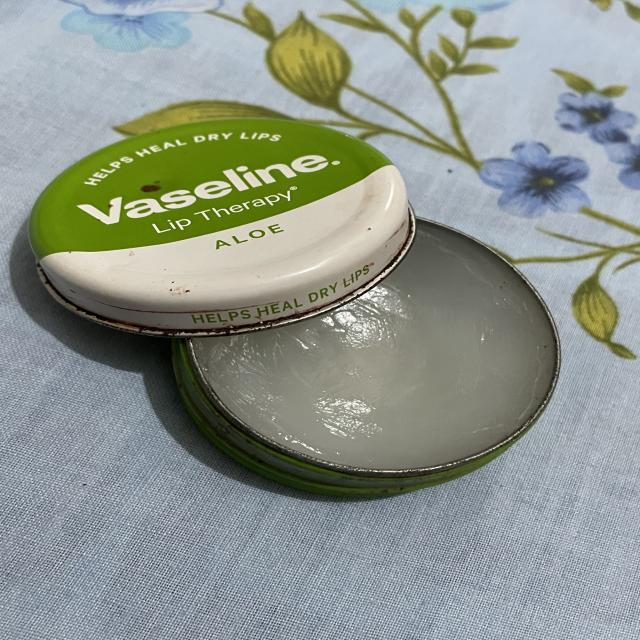lip balm: (5, 99, 577, 506), (153, 209, 576, 504)
